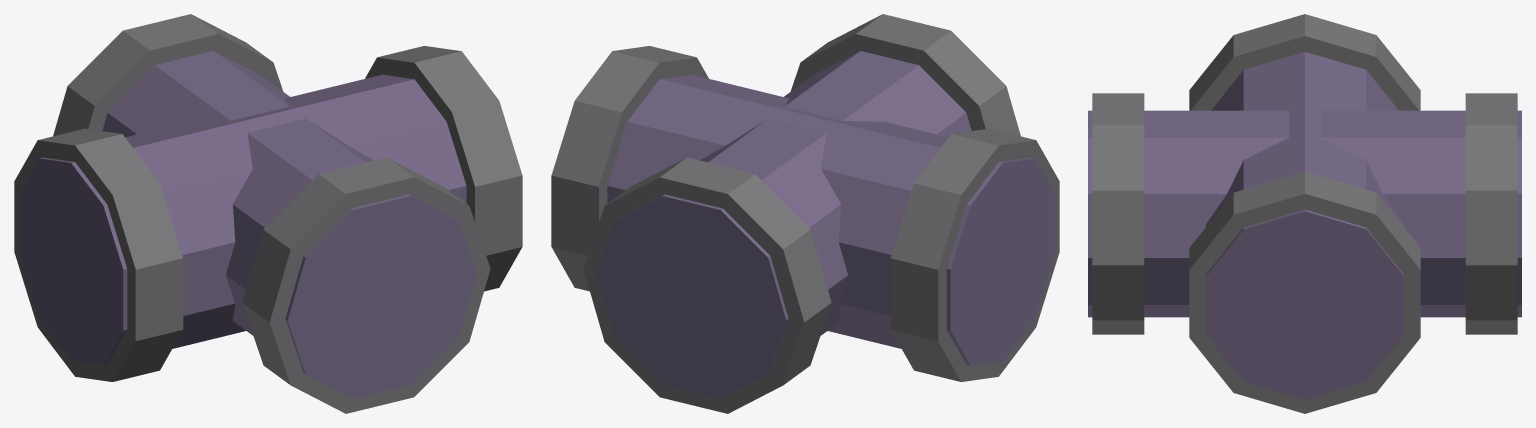
File: vge_astrofuel_valve.obj
The picture shows the model from 3 angles, left to right: view 1: azimuth 30°, elevation 25°; view 2: azimuth 150°, elevation 25°; view 3: azimuth 270°, elevation 25°; orthographic projection. The views are drawn at different scales.
Visible parts, largest first — view 1: vge_astrofuel_valve_1, vge_astrofuel_valve_0, vge_astrofuel_valve_3, vge_astrofuel_valve_2, vge_astrofuel_valve_4, vge_astrofuel_valve_5; view 2: vge_astrofuel_valve_1, vge_astrofuel_valve_0, vge_astrofuel_valve_5, vge_astrofuel_valve_2, vge_astrofuel_valve_4, vge_astrofuel_valve_3; view 3: vge_astrofuel_valve_0, vge_astrofuel_valve_1, vge_astrofuel_valve_4, vge_astrofuel_valve_3, vge_astrofuel_valve_5, vge_astrofuel_valve_2.
Part boxes in pixels (<box>): vge_astrofuel_valve_1: <box>102,51,476,398</box>; vge_astrofuel_valve_0: <box>19,74,466,365</box>; vge_astrofuel_valve_3: <box>242,157,490,413</box>; vge_astrofuel_valve_2: <box>14,128,183,381</box>; vge_astrofuel_valve_4: <box>365,46,522,291</box>; vge_astrofuel_valve_5: <box>53,14,283,136</box>; vge_astrofuel_valve_1: <box>597,51,971,398</box>; vge_astrofuel_valve_0: <box>607,74,1054,365</box>; vge_astrofuel_valve_5: <box>583,157,831,413</box>; vge_astrofuel_valve_2: <box>890,128,1059,381</box>; vge_astrofuel_valve_4: <box>551,46,708,291</box>; vge_astrofuel_valve_3: <box>790,14,1020,136</box>; vge_astrofuel_valve_0: <box>1206,52,1403,399</box>; vge_astrofuel_valve_1: <box>1088,110,1521,317</box>; vge_astrofuel_valve_4: <box>1189,172,1420,413</box>; vge_astrofuel_valve_3: <box>1092,93,1144,334</box>; vge_astrofuel_valve_5: <box>1465,93,1517,334</box>; vge_astrofuel_valve_2: <box>1189,14,1420,110</box>.
Size of the model in its own units: 1 by 0.56 by 1.
